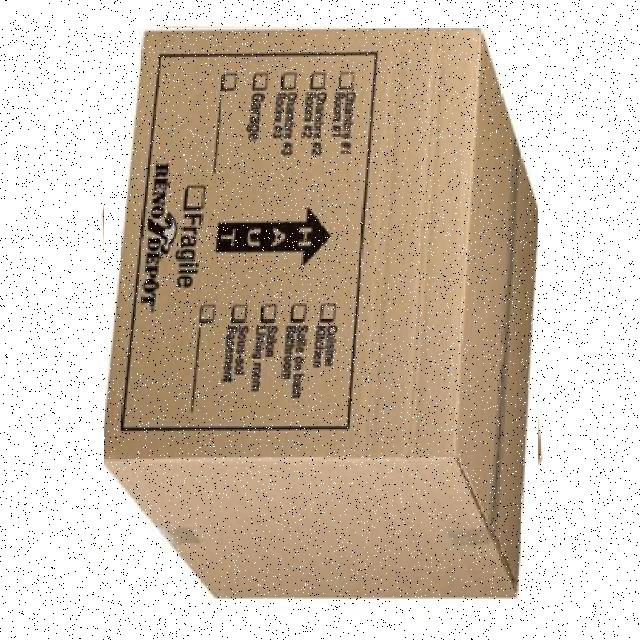normal: (104, 28, 538, 606)
